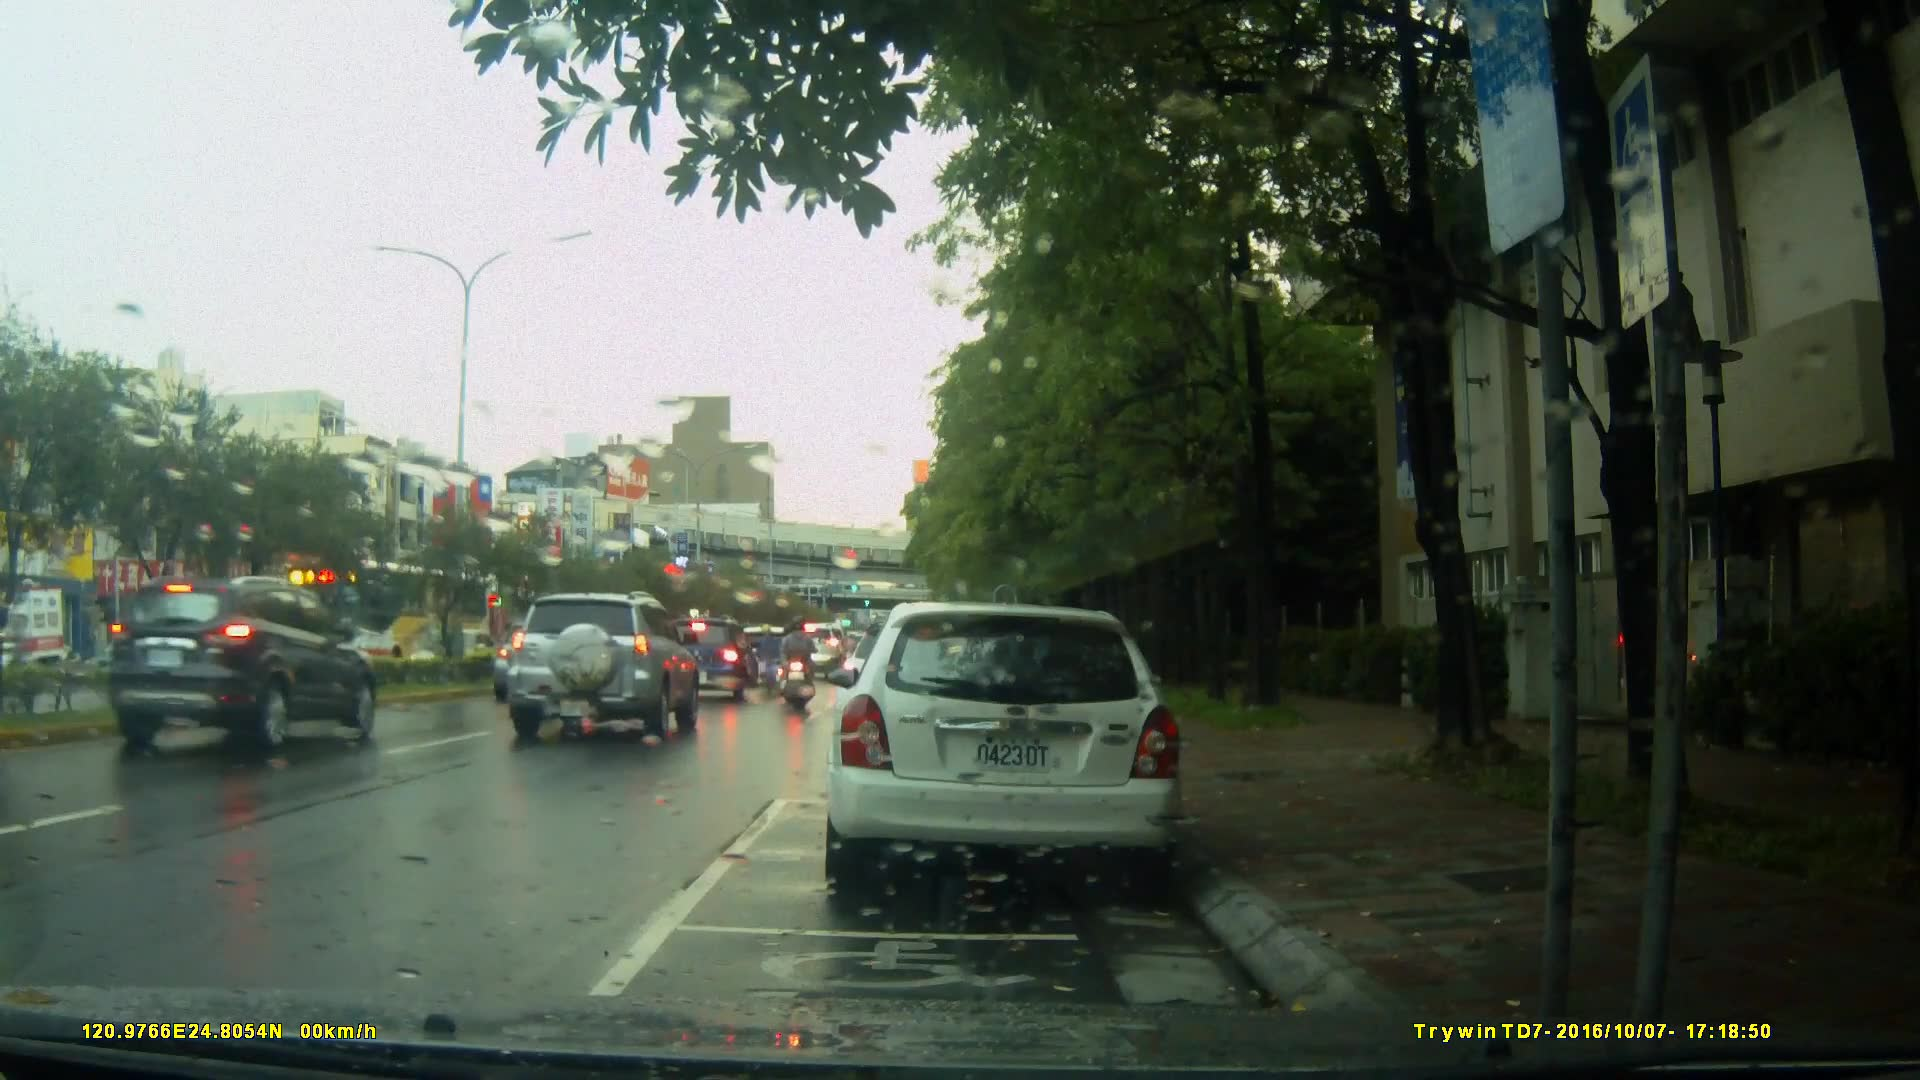rider: (782, 611, 822, 717), (746, 620, 782, 693)
vehicle: (820, 602, 1188, 898), (102, 575, 381, 757), (508, 591, 705, 739), (651, 613, 763, 704)
